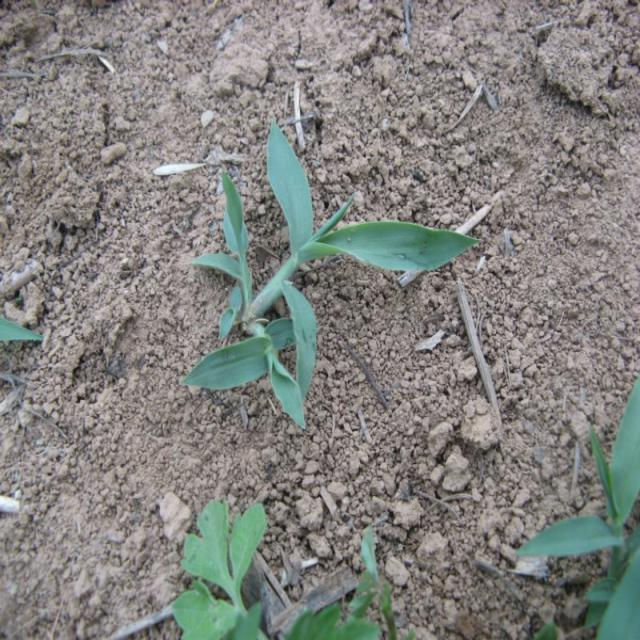bg: (184, 116, 482, 422)
